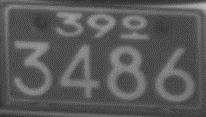3: (12, 39, 52, 96), (54, 10, 83, 37)
4: (58, 43, 100, 98)
6: (153, 46, 196, 103)
8: (105, 44, 148, 100)
9: (86, 12, 116, 39)
오: (119, 13, 149, 40)
